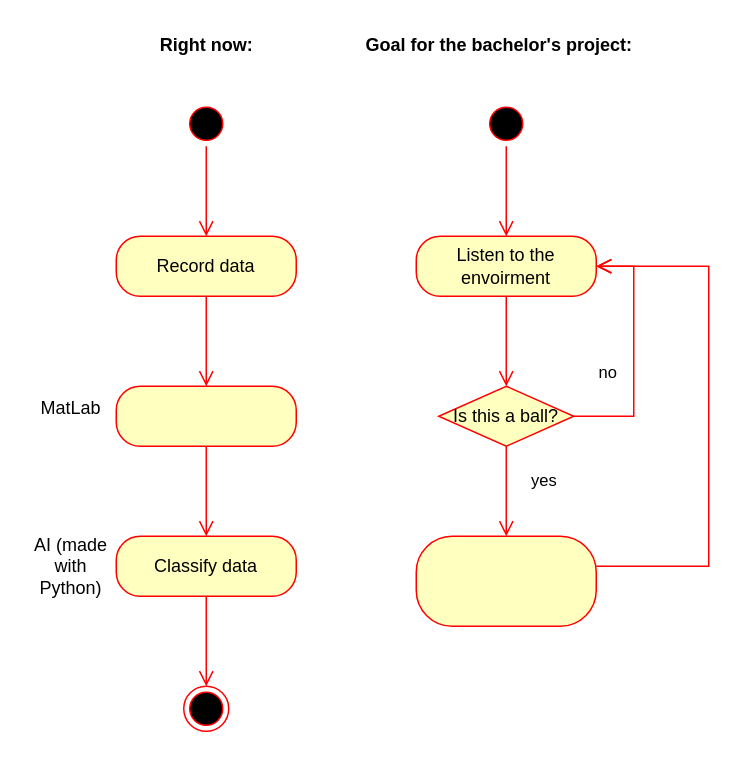
Image size: 750x758. Some labels were removed from this diagram. Here are the shapes that lost their labels. From the top down, the centre of each, then its label:
At (205,415): "Process data".
At (505,580): "Calculate the balls position (done in the separete program)".
